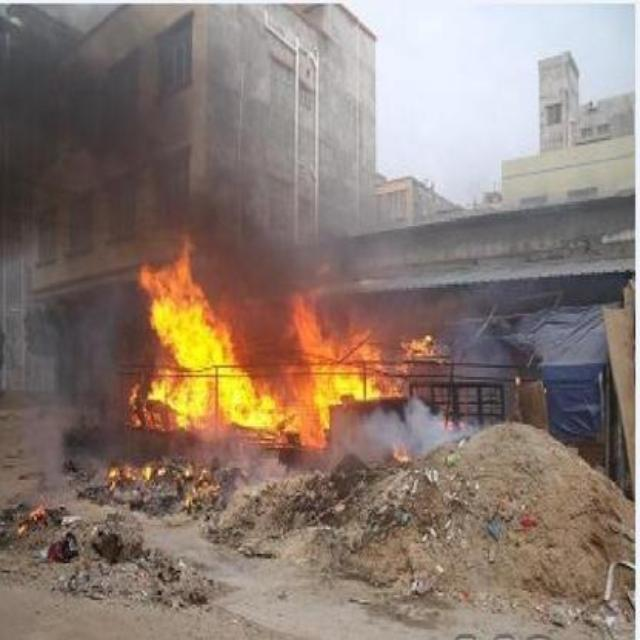Fire: (118, 242, 446, 444), (108, 462, 222, 510), (18, 504, 44, 536), (390, 448, 410, 468)
Smoke: (10, 39, 276, 290)
